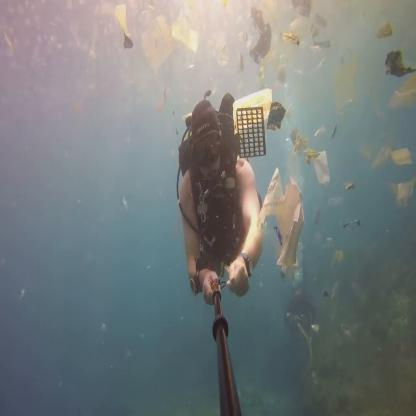Rác: (264, 174, 304, 264), (375, 132, 415, 206), (383, 32, 413, 116), (296, 130, 337, 187), (139, 22, 188, 69), (326, 69, 372, 118), (248, 6, 276, 72), (233, 101, 263, 156), (294, 4, 326, 50), (198, 14, 231, 58), (280, 33, 298, 50)
